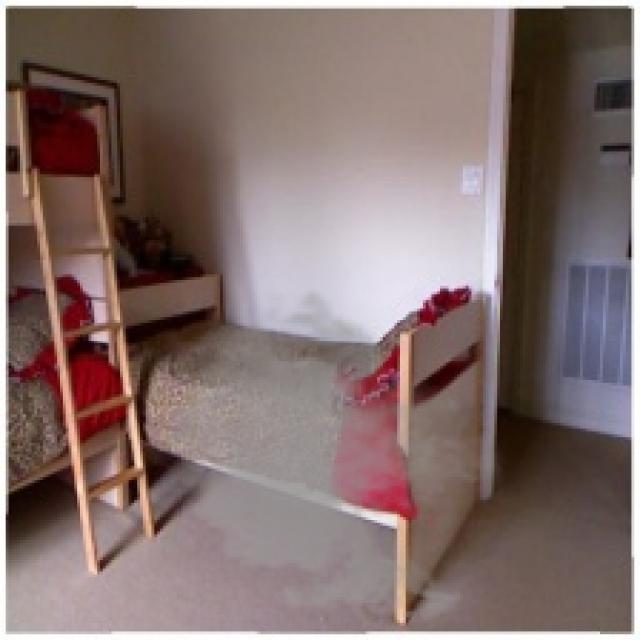smoke: (143, 288, 526, 632)
